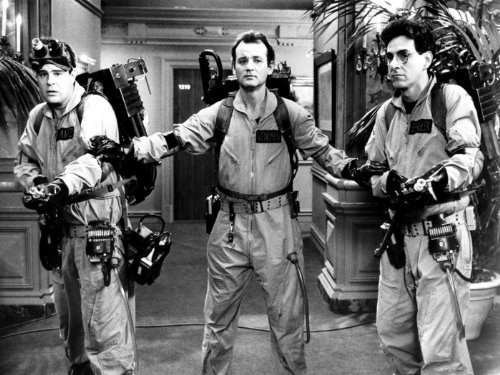27: (31, 53, 74, 109)
37: (378, 28, 427, 95)
42: (228, 36, 271, 92)
Belt: (375, 209, 483, 241), (32, 218, 132, 248), (200, 189, 302, 214)
Glasses: (374, 45, 436, 69)
Gloves: (383, 170, 448, 216), (15, 176, 73, 217), (84, 130, 132, 170), (347, 156, 394, 193)
Jump suit: (124, 85, 356, 374), (1, 76, 143, 374), (363, 79, 484, 374)
Male: (378, 28, 427, 95), (228, 36, 271, 92), (31, 53, 74, 109)
